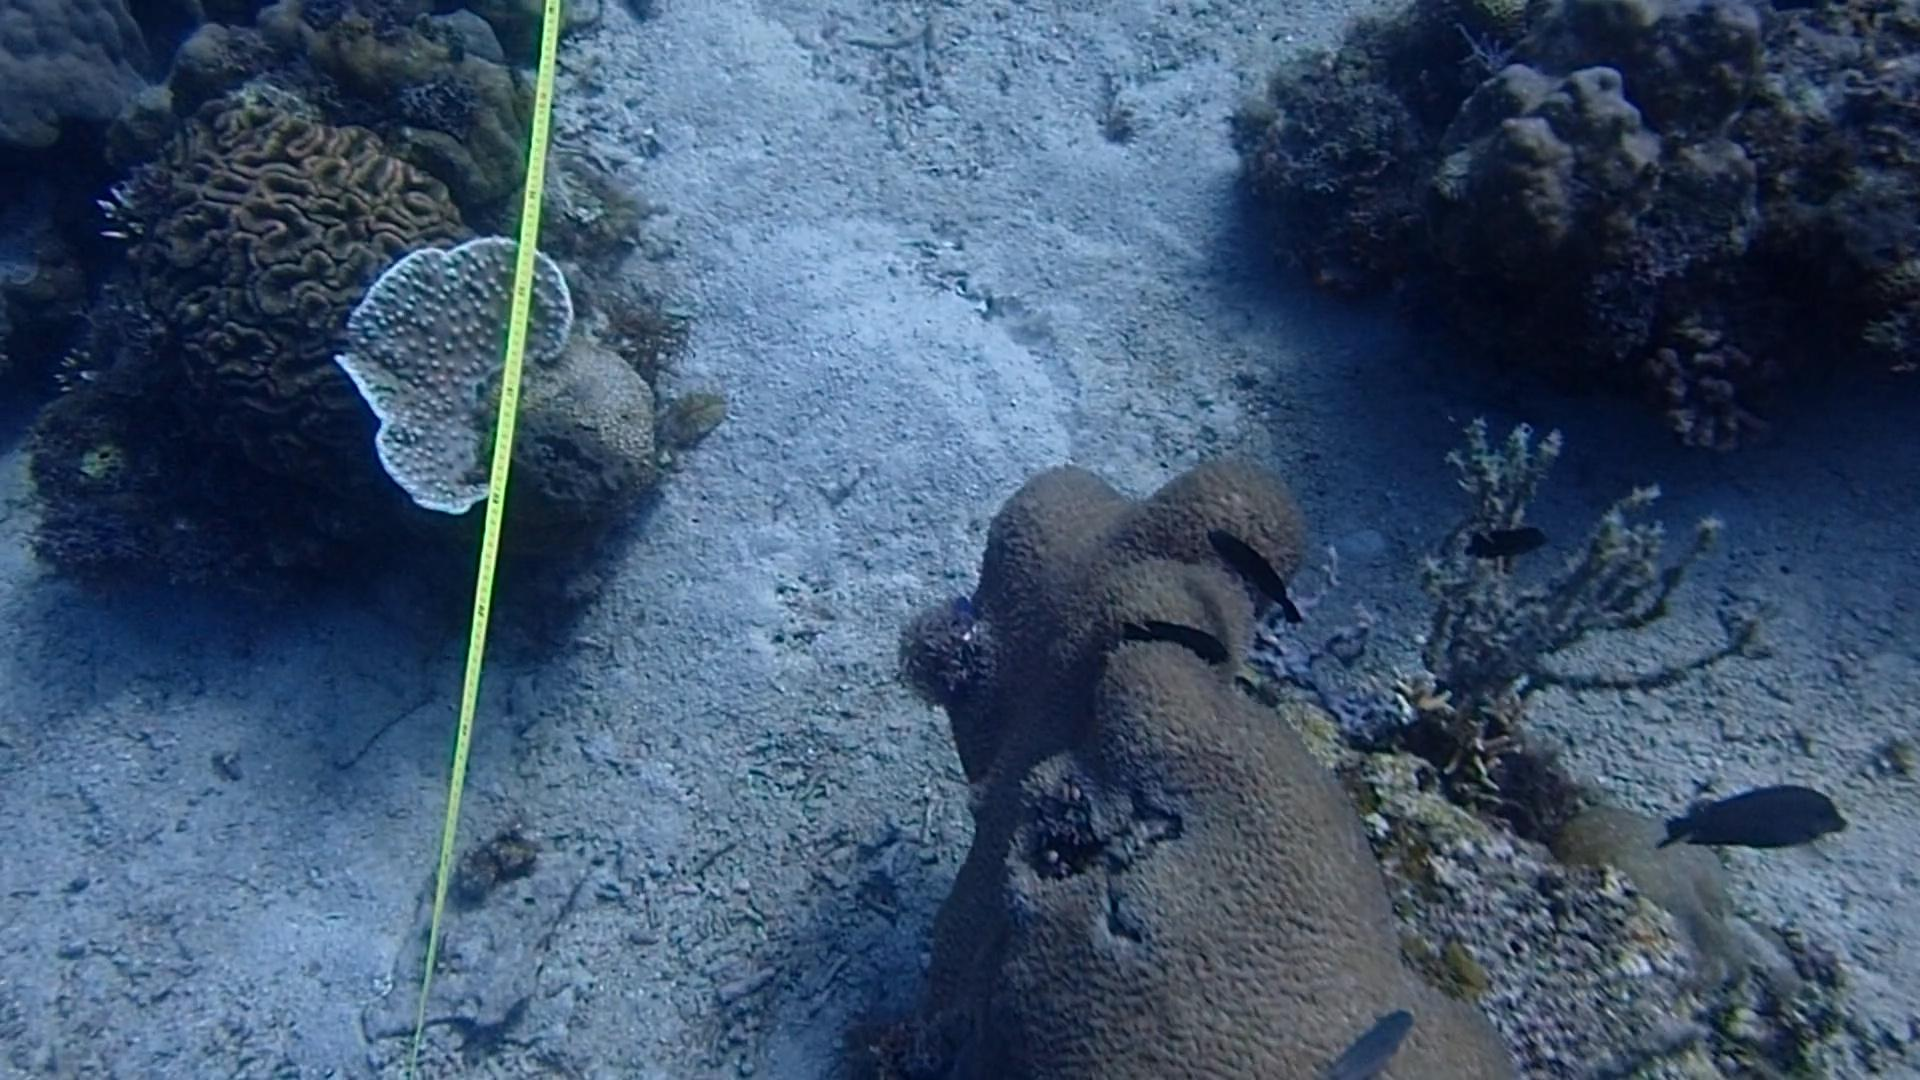Big Dark Blue Fish: (1663, 775, 1850, 862)
Dark Fish: (1195, 522, 1305, 611), (1121, 593, 1244, 665), (1458, 518, 1564, 571)
Light Fish: (1336, 994, 1420, 1080)
